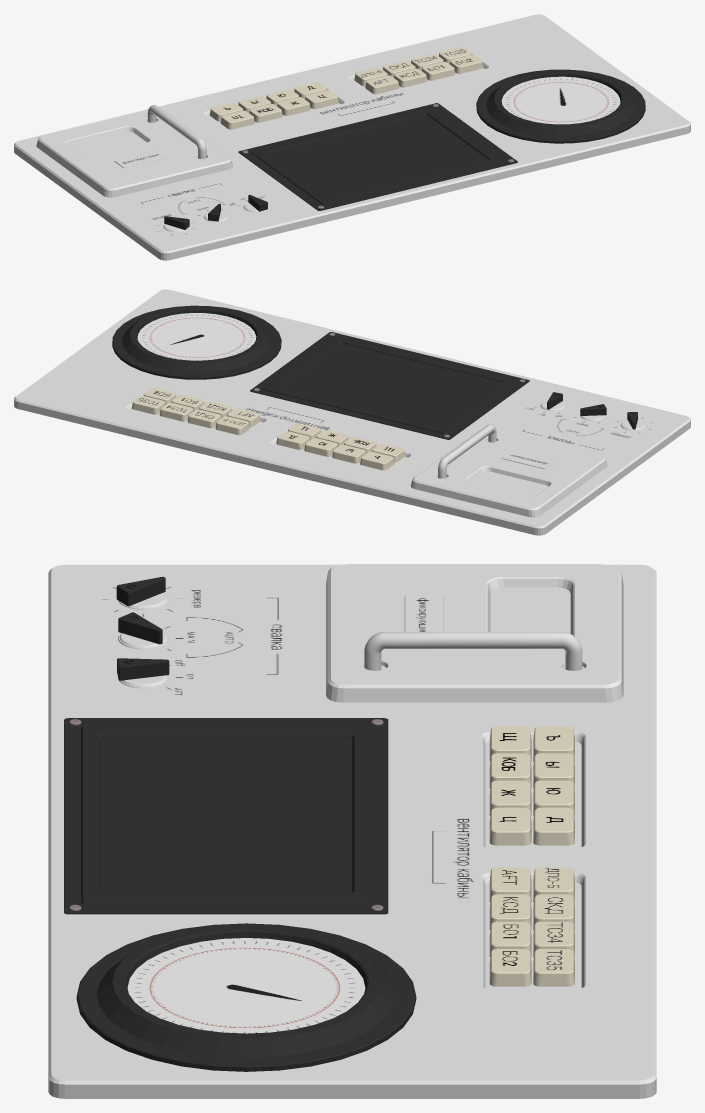
File: panel_test2.fbx
The picture shows the model from 3 angles, top to bottom: view 1: azimuth 30°, elevation 25°; view 2: azimuth 150°, elevation 25°; view 3: azimuth 270°, elevation 25°; orthographic projection. The views are drawn at different scales.
Visible parts, largest first — view 1: Plane.014; view 2: Plane.014; view 3: Plane.014.
Boxes of the visible parts, left/top/right/bottom form: Plane.014: left=14, top=14, right=690, bottom=260; Plane.014: left=14, top=289, right=690, bottom=535; Plane.014: left=48, top=564, right=656, bottom=1098.
Size of the model in its own units: 71.3 by 4.19 by 35.37.
Materials: 8 (5 with a texture image).
